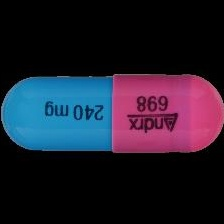62037-698: (0, 0, 224, 224)
